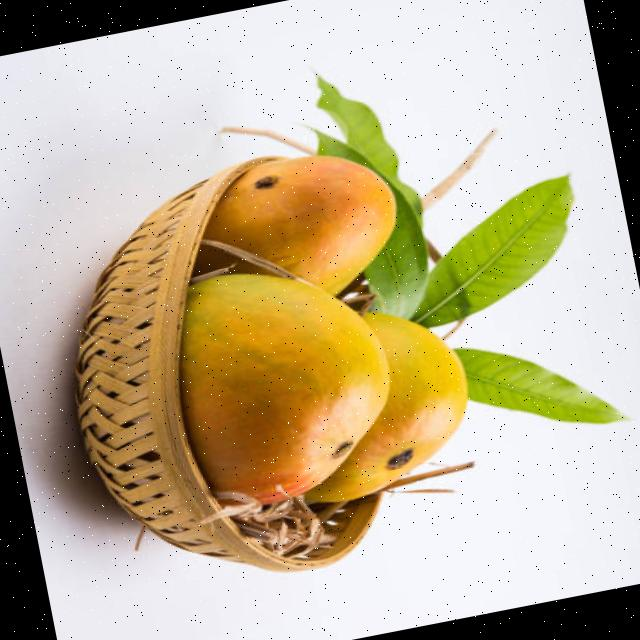mango: (179, 274, 389, 504), (305, 313, 467, 502), (205, 156, 396, 295)
